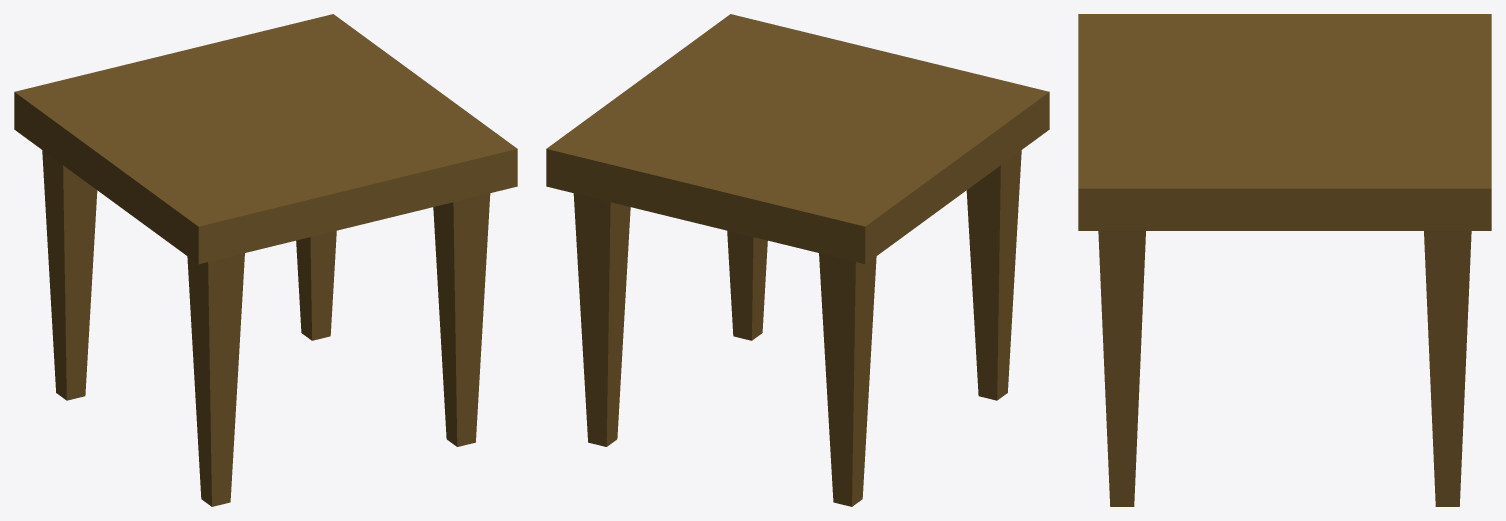
File: MiniTable.glb
3 views of the same model, side by side, from view 1: azimuth 30°, elevation 25°; view 2: azimuth 150°, elevation 25°; view 3: azimuth 270°, elevation 25° (orthographic). The views are drawn at different scales.
Visible parts, largest first — view 1: Cube.044, Cube.045; view 2: Cube.044, Cube.045; view 3: Cube.044, Cube.045.
Part boxes in pixels (<box>): Cube.044: <box>14,14,517,264</box>; Cube.045: <box>42,150,490,506</box>; Cube.044: <box>546,14,1049,264</box>; Cube.045: <box>573,150,1021,506</box>; Cube.044: <box>1078,14,1491,230</box>; Cube.045: <box>1098,231,1471,506</box>.
Size of the model in its own units: 0.5096 by 0.4538 by 0.5096.
